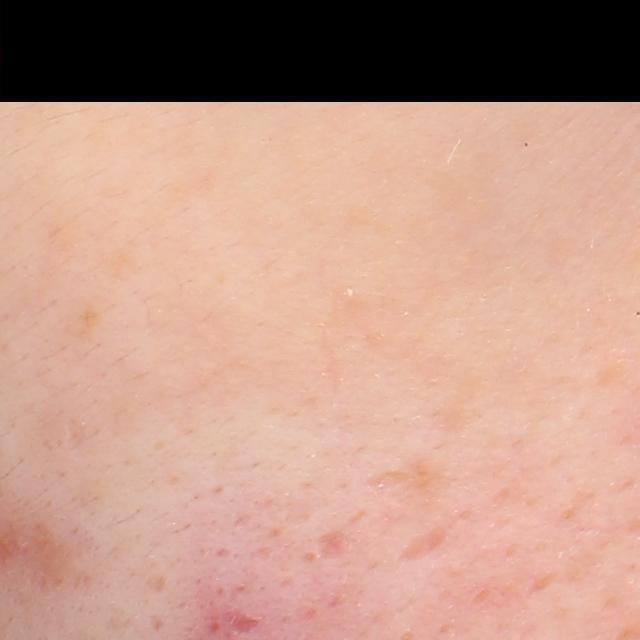atrophic_scar: (314, 528, 342, 559), (227, 608, 259, 633)
